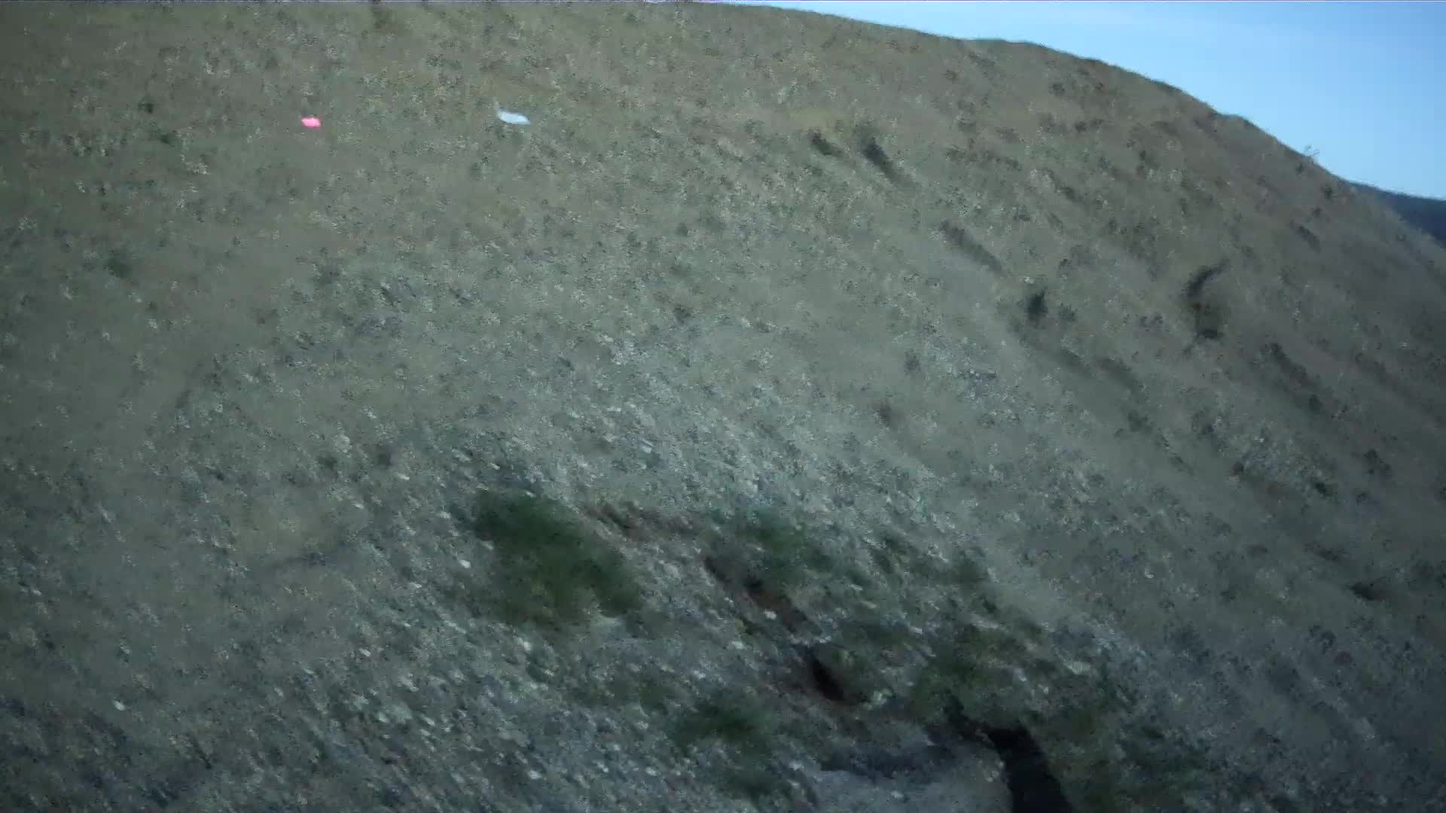Target: (497, 109, 529, 125)
